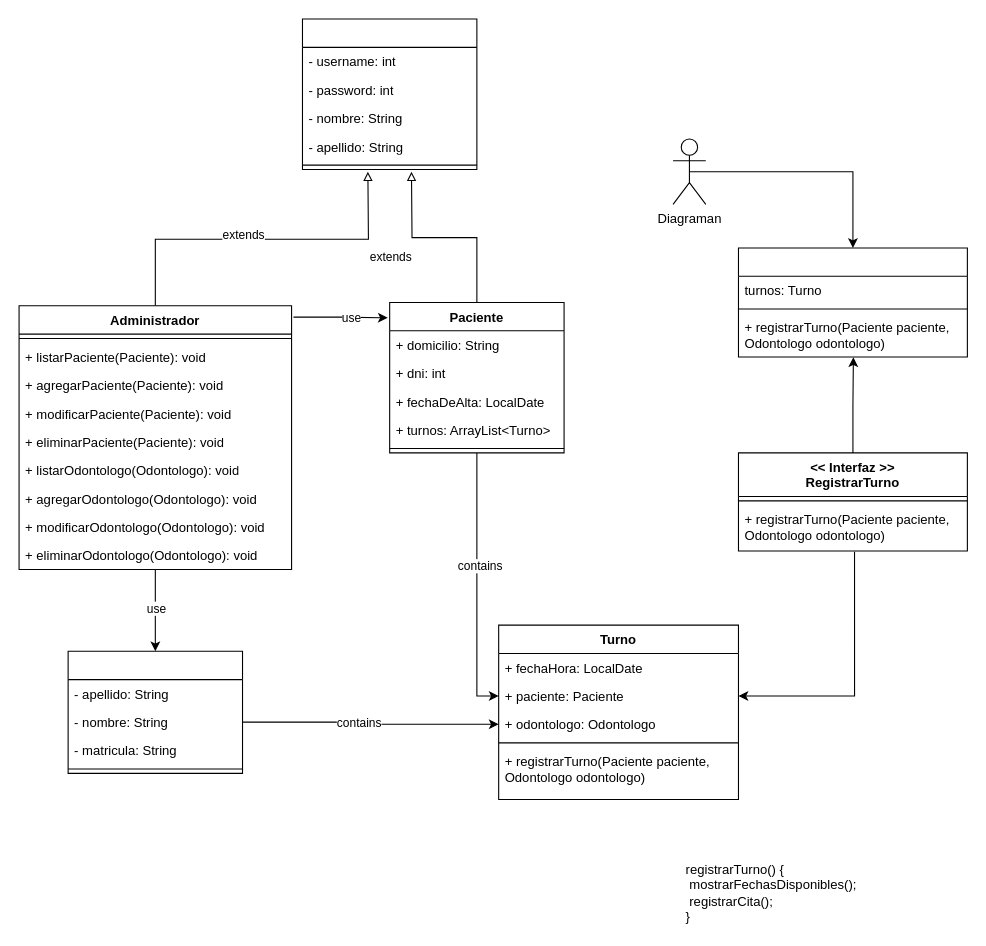
This 986x946 diagram has some shape labels left out. Here are the shapes that lost their labels. From the top down, the box of each, then its label:
(301, 18, 477, 169): <<Usuario>>
(737, 247, 967, 357): TurnoProxy
(67, 650, 243, 773): Odontologo
